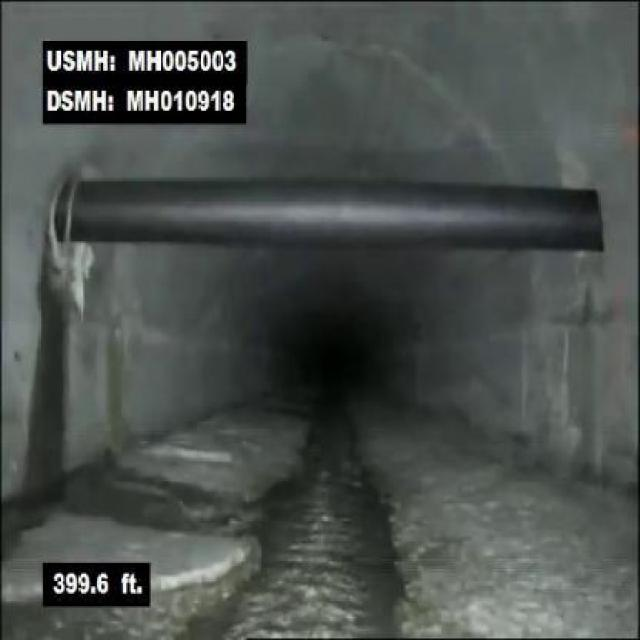Utility intrusion: (12, 171, 620, 260)
